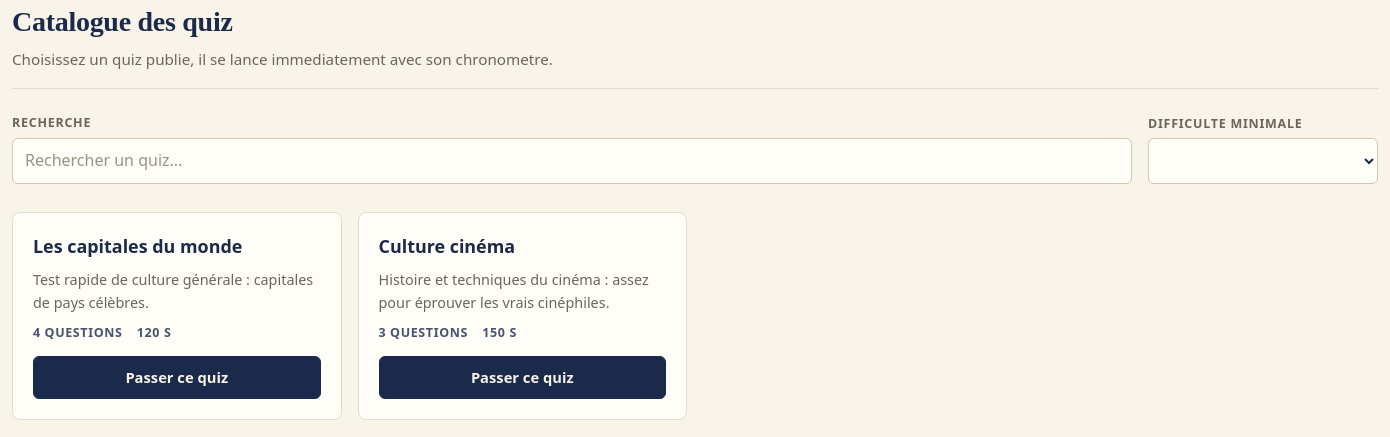
Scenario: CatalogComponent › filtre la liste selon la difficulte minimale
This screenshot has width=1390, height=437.
Select "Moyen et plus" in the dropdown named "min-difficulty": (1263, 161) [1148,138,1378,184]
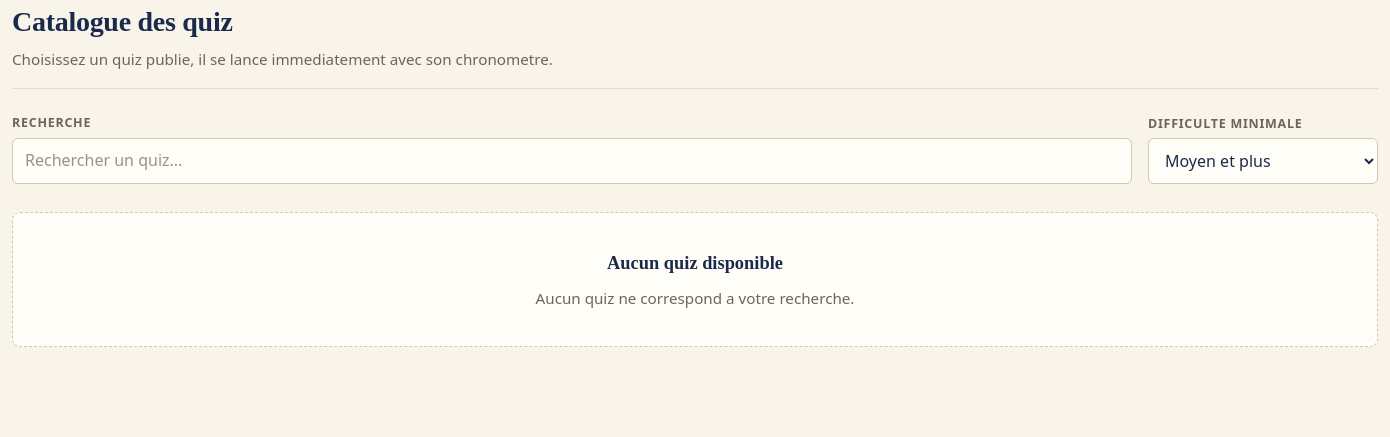
Now the text "Aucun quiz disponible" is shown, box [607,249,783,277]
